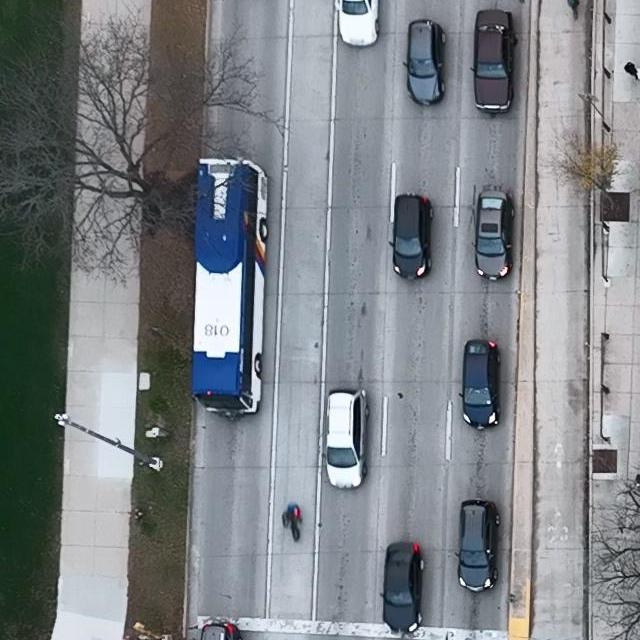car: (190, 159, 268, 420), (470, 10, 519, 114), (321, 389, 370, 489), (379, 541, 425, 633), (455, 500, 500, 592), (458, 338, 502, 431), (402, 18, 446, 107), (472, 189, 514, 282), (388, 193, 433, 279), (334, 0, 379, 46), (200, 623, 242, 640)
